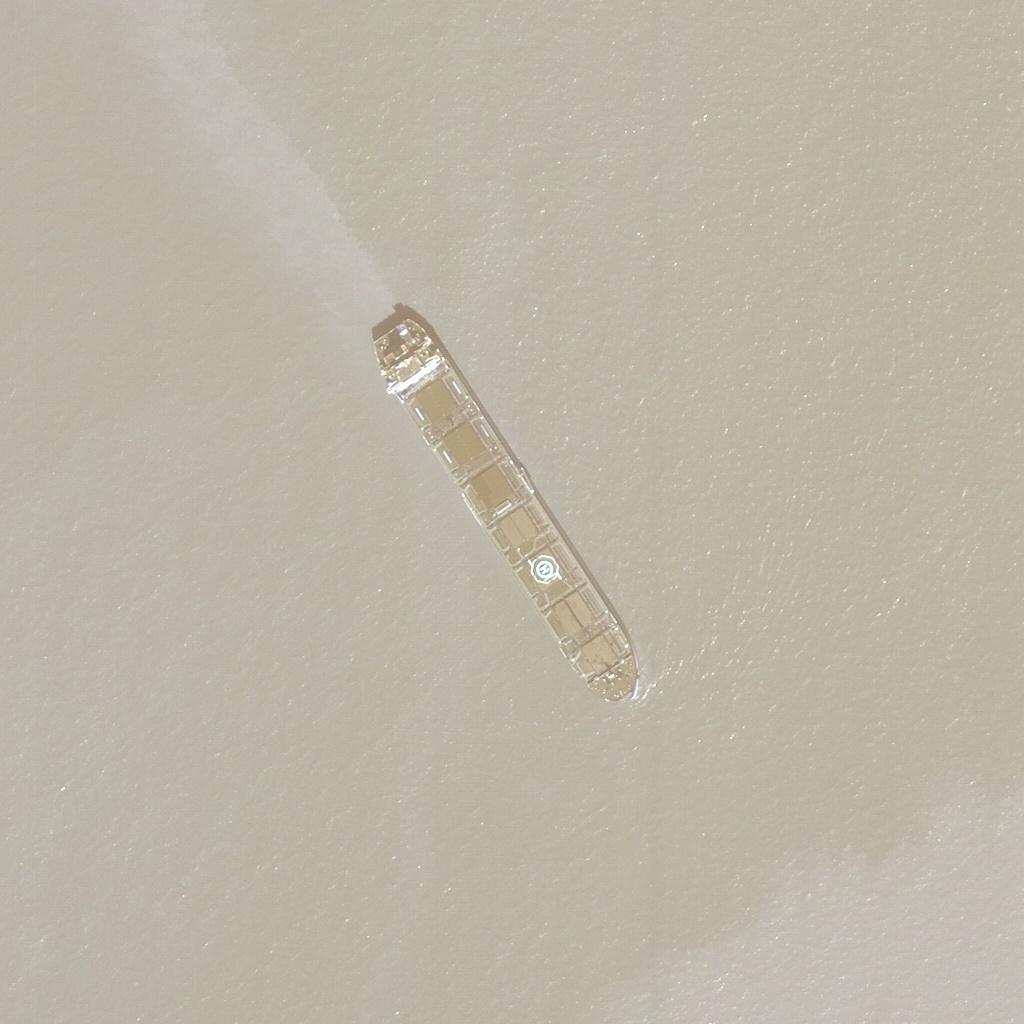ship: (372, 317, 640, 706)
